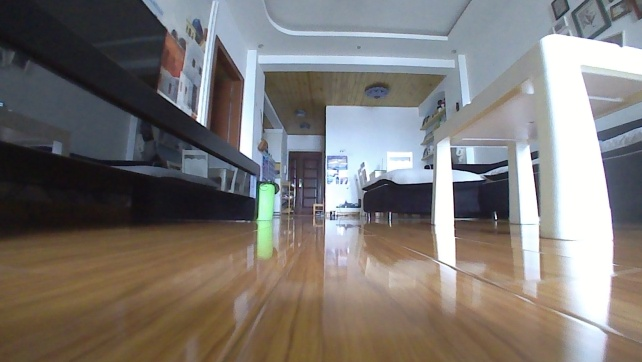TV_stand: (0, 0, 263, 226)
door_anno: (286, 150, 325, 215)
sofa: (354, 114, 641, 220)
